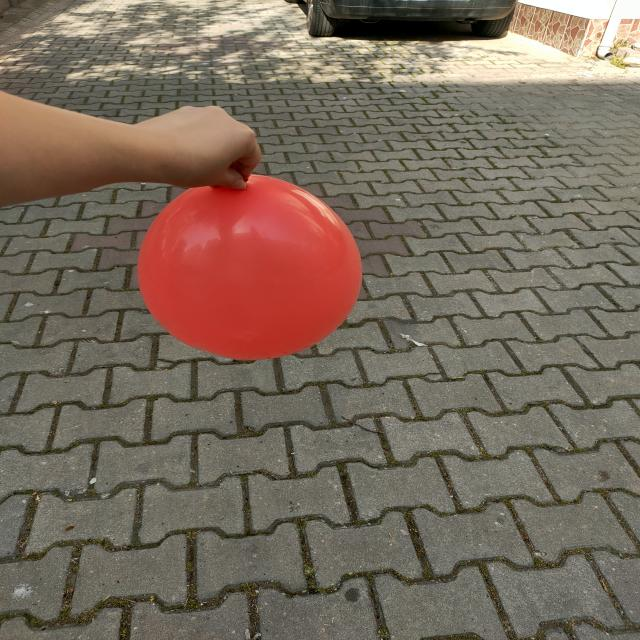red: (140, 174, 362, 360)
